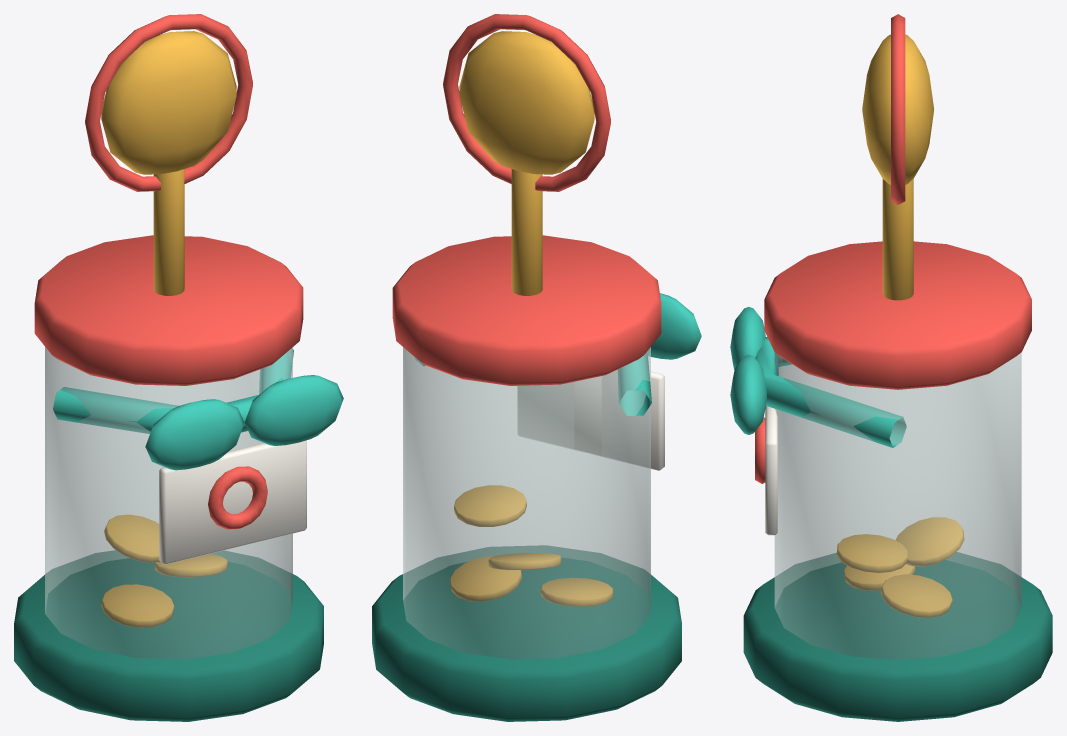
File: tip_jar.glb
The picture shows the model from 3 angles, left to right: view 1: azimuth 30°, elevation 25°; view 2: azimuth 150°, elevation 25°; view 3: azimuth 270°, elevation 25°; orthographic projection.
Parts seen in each view (by area): view 1: Base_Glass, Base_MintDark, Base_Coral, L3_Gold, L2_Mint, Base_Cream, L3_Coral, Base_Gold; view 2: Base_Glass, Base_MintDark, Base_Coral, L3_Gold, Base_Cream, Base_Gold, L3_Coral, L2_Mint; view 3: Base_Glass, Base_MintDark, Base_Coral, L3_Gold, L2_Mint, Base_Gold, L3_Coral, Base_Cream.
Boxes of the visible parts, bbox=[...] form: Base_Glass: bbox=[45, 347, 292, 659]; Base_MintDark: bbox=[14, 550, 323, 721]; Base_Coral: bbox=[34, 235, 303, 529]; L3_Gold: bbox=[101, 31, 236, 295]; L2_Mint: bbox=[53, 348, 343, 470]; Base_Cream: bbox=[159, 440, 306, 564]; L3_Coral: bbox=[85, 14, 252, 191]; Base_Gold: bbox=[101, 514, 227, 627]; Base_Glass: bbox=[403, 347, 650, 659]; Base_MintDark: bbox=[372, 545, 681, 721]; Base_Coral: bbox=[392, 235, 661, 385]; L3_Gold: bbox=[459, 31, 594, 295]; Base_Cream: bbox=[517, 370, 664, 470]; Base_Gold: bbox=[450, 485, 612, 606]; L3_Coral: bbox=[443, 14, 610, 191]; L2_Mint: bbox=[415, 293, 701, 415]; Base_Glass: bbox=[774, 352, 1021, 659]; Base_MintDark: bbox=[743, 552, 1052, 721]; Base_Coral: bbox=[755, 241, 1031, 483]; L3_Gold: bbox=[862, 34, 934, 300]; L2_Mint: bbox=[730, 307, 906, 447]; Base_Gold: bbox=[837, 517, 964, 617]; L3_Coral: bbox=[891, 14, 905, 204]; Base_Cream: bbox=[765, 406, 777, 535].
Size of the model in its own units: 0.3 by 0.683 by 0.313.
